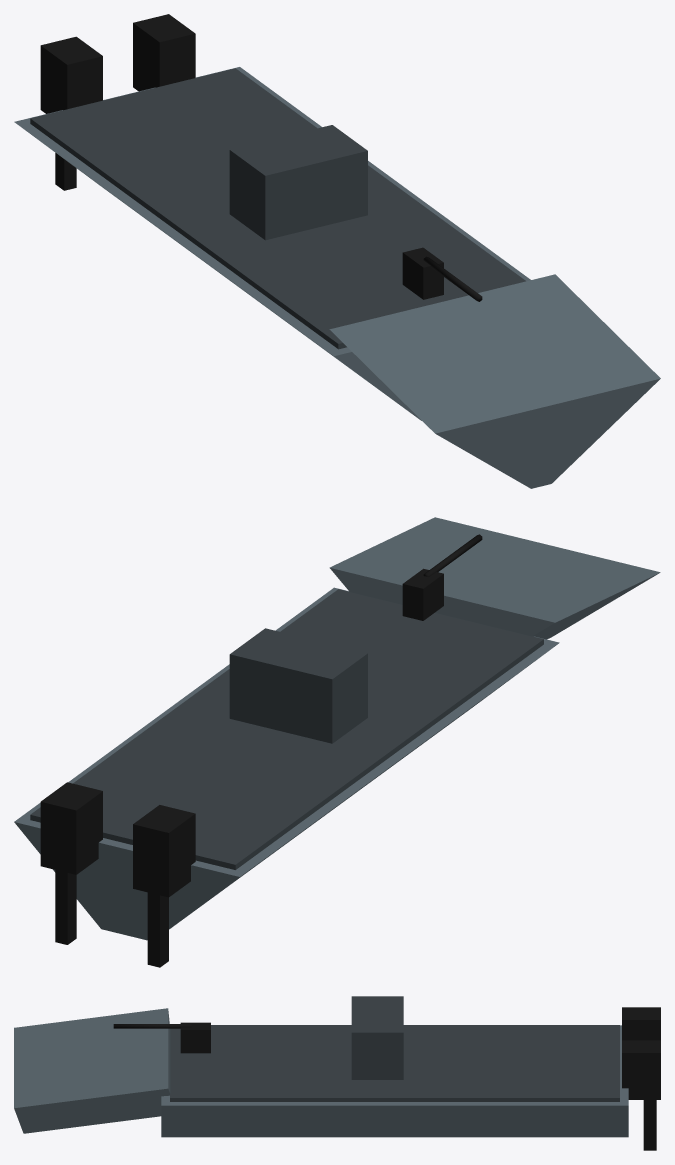
The model's file is arrow_boat.glb.
3 renders of one model, top to bottom at view 1: azimuth 30°, elevation 25°; view 2: azimuth 150°, elevation 25°; view 3: azimuth 270°, elevation 25°, orthographic. The views are drawn at different scales.
Parts seen in each view (by area): view 1: Boat; view 2: Boat; view 3: Boat.
Part boxes in pixels (x1,y1,x2,y2): Boat: (14, 14, 660, 488); Boat: (14, 517, 660, 967); Boat: (14, 996, 660, 1150).
Size of the model in its own units: 2.2 by 1.5 by 7.48.
